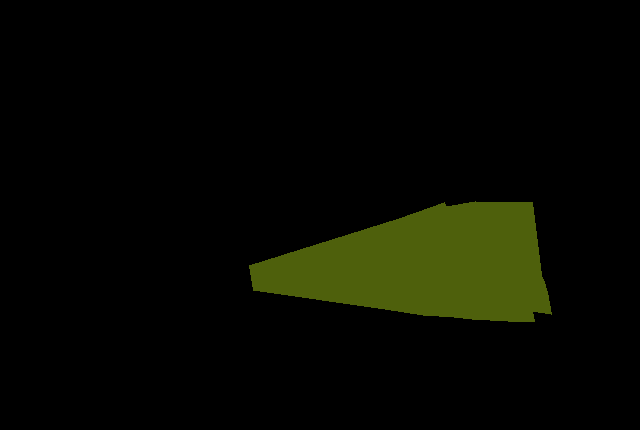Train: (249, 201, 551, 322)
